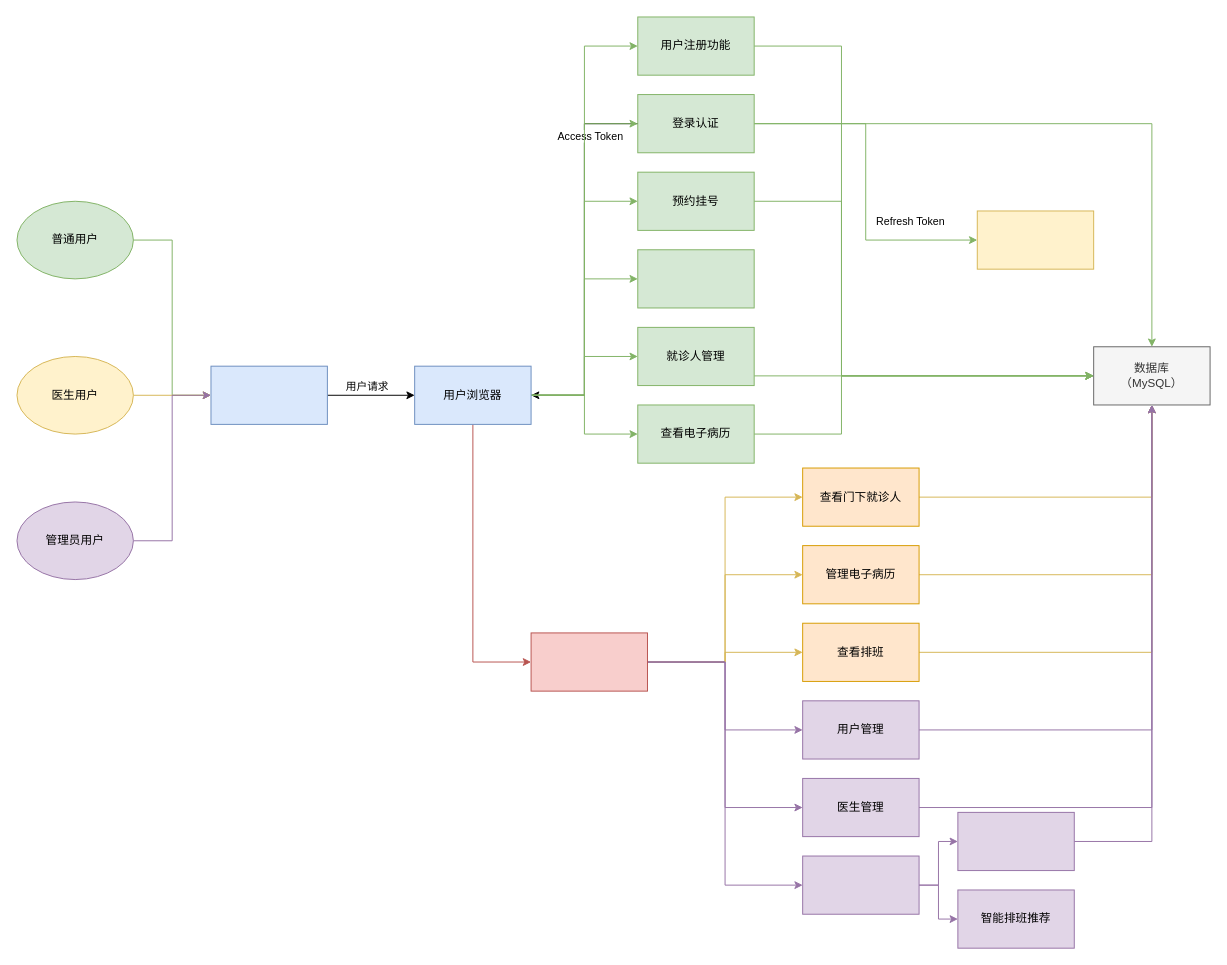
Image size: 1227x965. Some labels were removed from this diagram. The shapes that lost their labels are listed below. From the top down, each one's centre as x and y in pixels, then its label:
point 1035,239: 缓存服务 （Redis）
point 695,278: 查看挂号信息
point 268,394: 用户页面 （Vue.js）
point 588,661: 角色鉴权 (Spring Security)
point 1015,841: 排班管理
point 860,884: 医生排班
